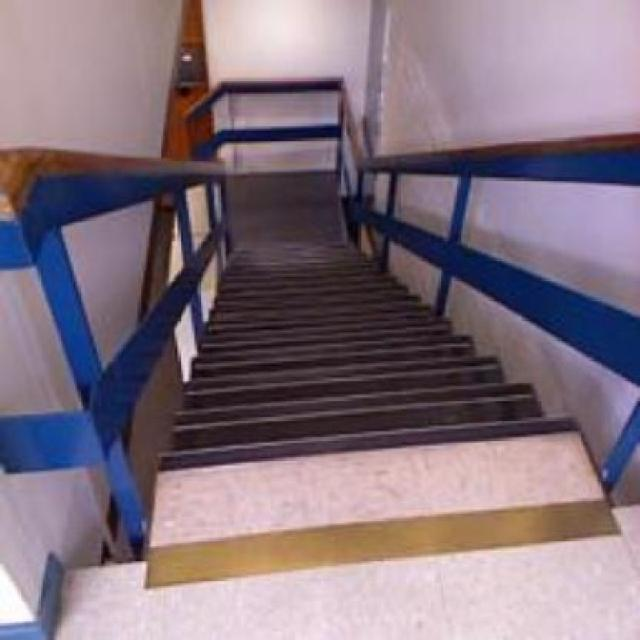stair: (149, 239, 574, 481)
